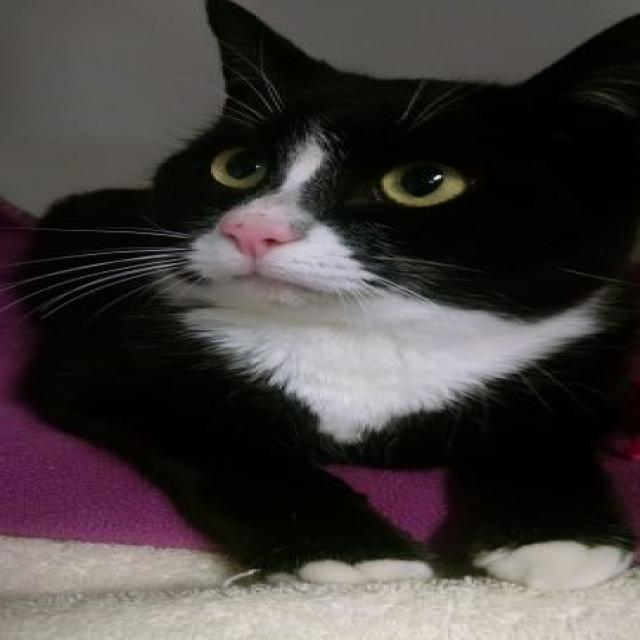Tuxedo: (2, 0, 640, 596)
